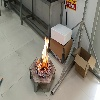fire: (36, 36, 49, 72)
